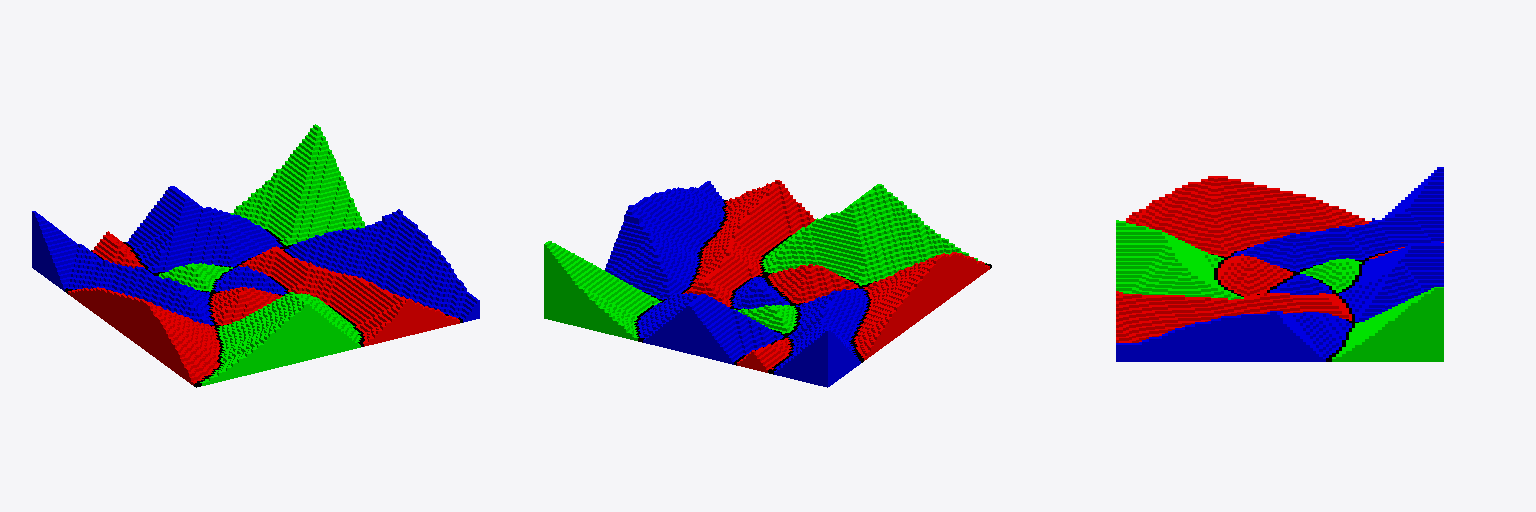
3 views of the same model, side by side, from view 1: azimuth 30°, elevation 25°; view 2: azimuth 150°, elevation 25°; view 3: azimuth 270°, elevation 25° (orthographic).
Visible parts, largest first — view 1: object 1; view 2: object 1; view 3: object 1.
Boxes of the visible parts, <box> form: object 1: <box>32,124,479,387</box>; object 1: <box>544,180,991,387</box>; object 1: <box>1116,167,1443,361</box>.
Bounding box in the file's own units: 10 × 2.5 × 10.
Materials: 1 (1 with a texture image).